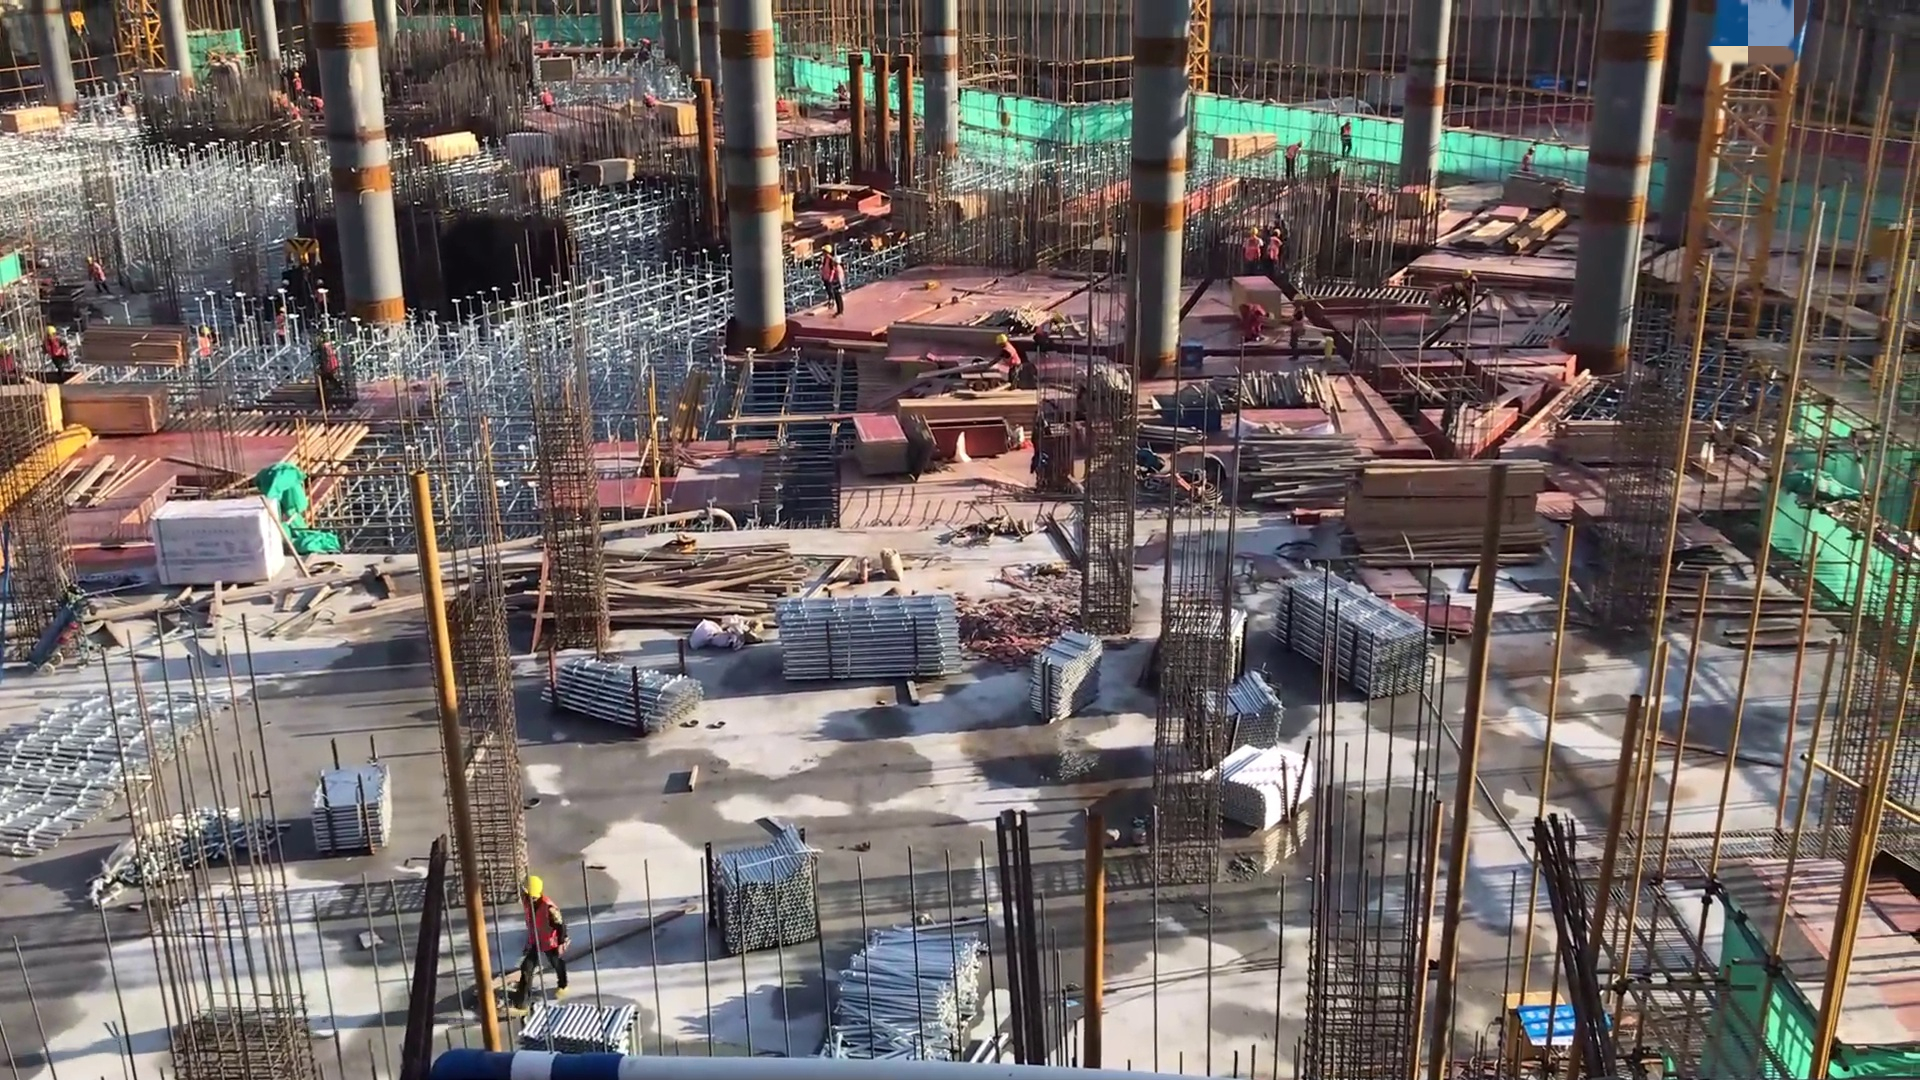helmet: (518, 869, 549, 917), (993, 333, 1010, 351), (1048, 310, 1066, 326), (46, 324, 61, 341), (1265, 309, 1279, 326), (822, 241, 835, 257), (1462, 267, 1474, 281), (1249, 225, 1260, 239), (831, 254, 845, 265), (1452, 281, 1461, 296), (200, 325, 210, 338), (1273, 228, 1284, 238), (1300, 139, 1305, 147)
person: (505, 869, 572, 1017), (992, 333, 1026, 397), (311, 335, 344, 397), (1033, 310, 1065, 362), (1420, 277, 1464, 316), (1239, 300, 1277, 342), (1288, 292, 1310, 359), (43, 323, 66, 382), (1281, 136, 1305, 189), (193, 324, 216, 371), (1263, 227, 1286, 275), (832, 254, 849, 317), (86, 255, 109, 298), (1243, 225, 1264, 274), (1462, 265, 1482, 311), (820, 241, 833, 300), (1340, 114, 1355, 161), (1520, 141, 1537, 182), (538, 88, 561, 117), (305, 93, 327, 119), (641, 87, 659, 114), (291, 66, 305, 101)
vest: (515, 901, 566, 963), (1000, 343, 1023, 371), (1265, 234, 1284, 265), (1246, 237, 1260, 264), (1253, 300, 1266, 328)
